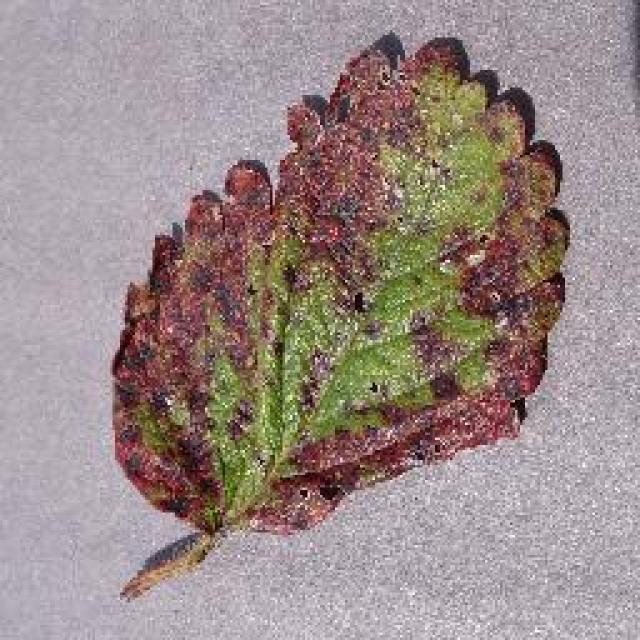Strawberry leaf scorch: (168, 142, 514, 456)
